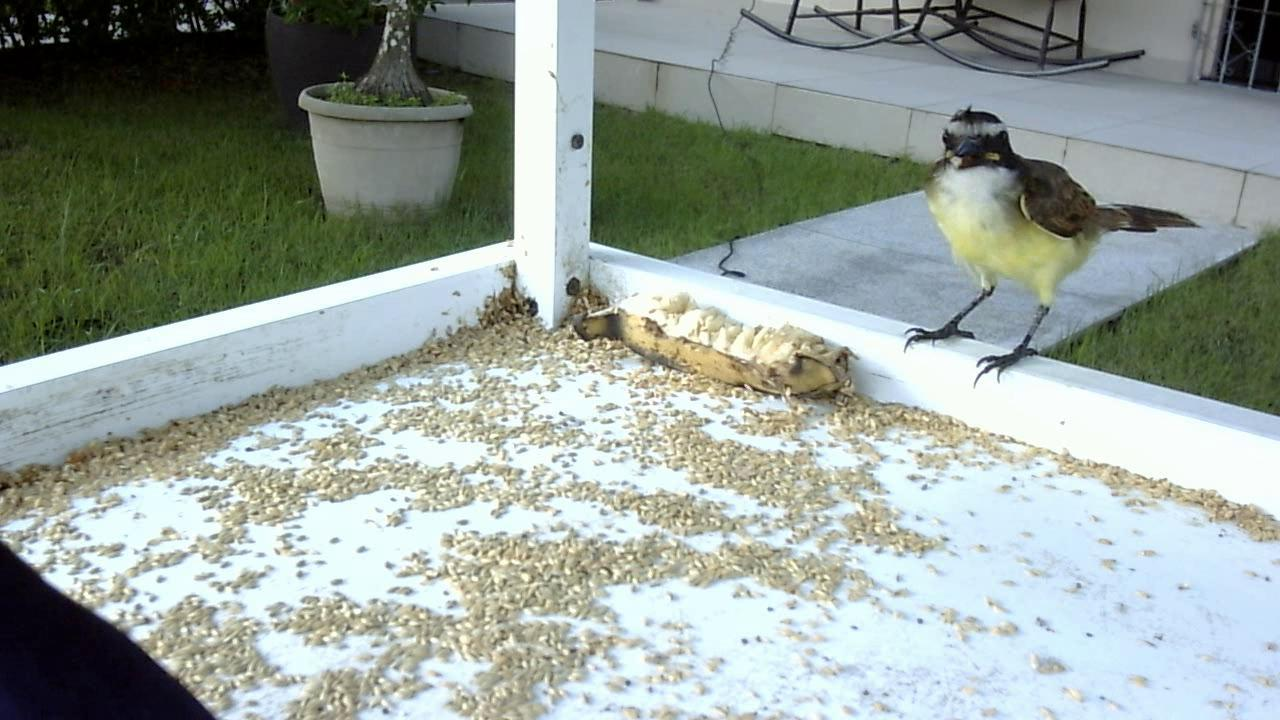bem_te_vi: (889, 99, 1210, 395)
